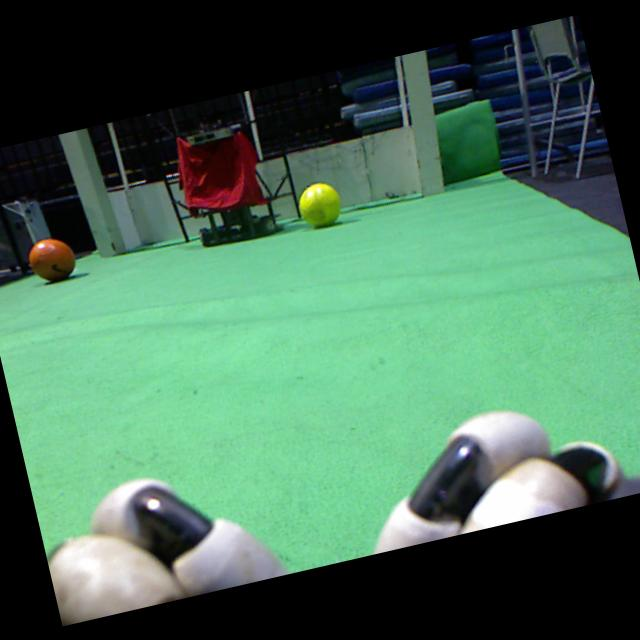ball: (29, 238, 75, 281), (299, 182, 340, 226)
goal: (58, 131, 116, 257), (403, 50, 445, 196)
